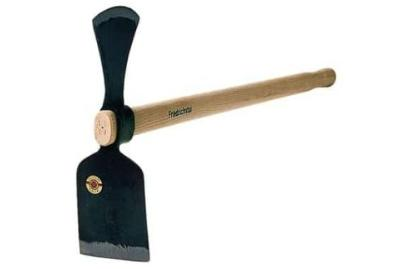HOUE: (70, 0, 353, 269)
